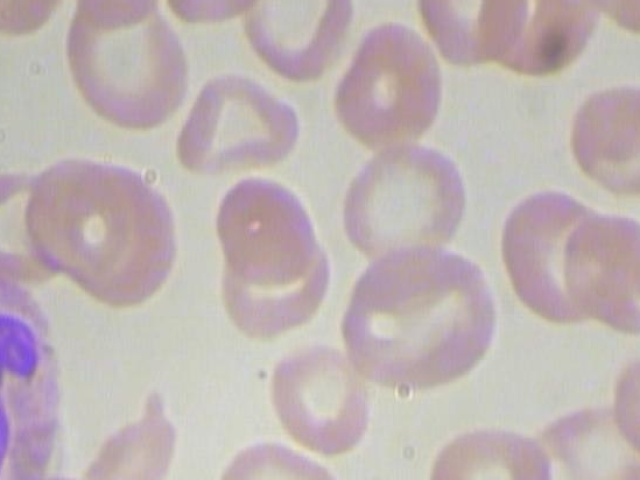RBC: (333, 240, 505, 401), (56, 0, 207, 137), (497, 184, 621, 331), (338, 140, 470, 269), (331, 18, 453, 153), (176, 63, 301, 187), (260, 337, 370, 463), (212, 168, 325, 287), (49, 387, 185, 480), (469, 0, 606, 82), (419, 413, 559, 480), (417, 0, 527, 76), (210, 434, 371, 480)
WBC: (0, 248, 62, 480)
